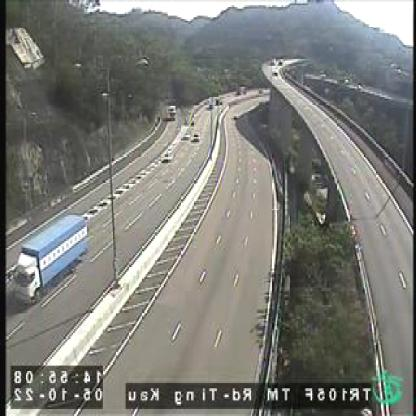Car: (164, 151, 174, 159)
Truck: (16, 215, 88, 307)
